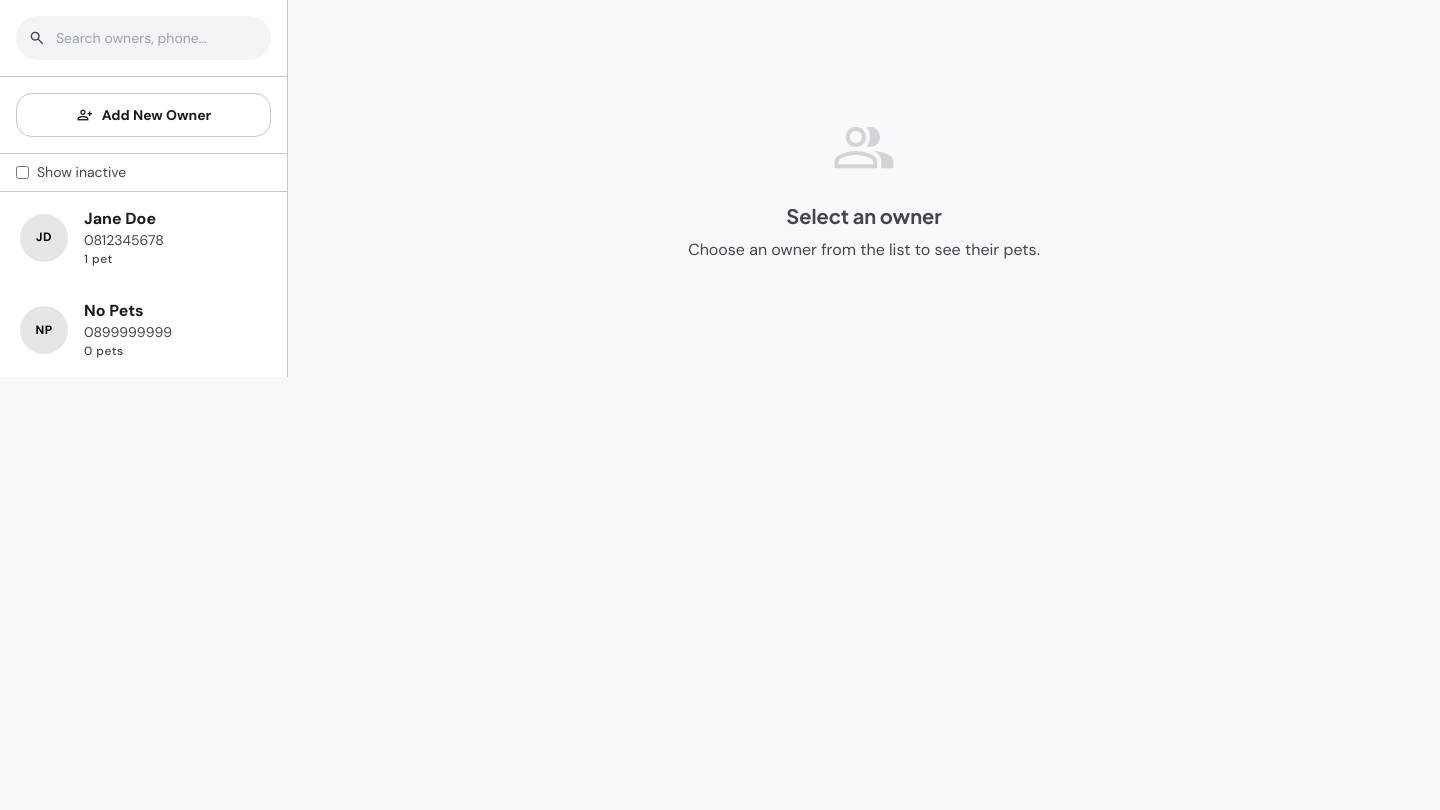
ClinicPets — AddOwnerModal › opens with the literal header "New Owner" (untranslated — pinned as-is)
Check: the text "Jane Doe" is shown, box [84,208,156,230]
Click the button "Add New Owner".
click(144, 115)  # box [16,93,271,137]
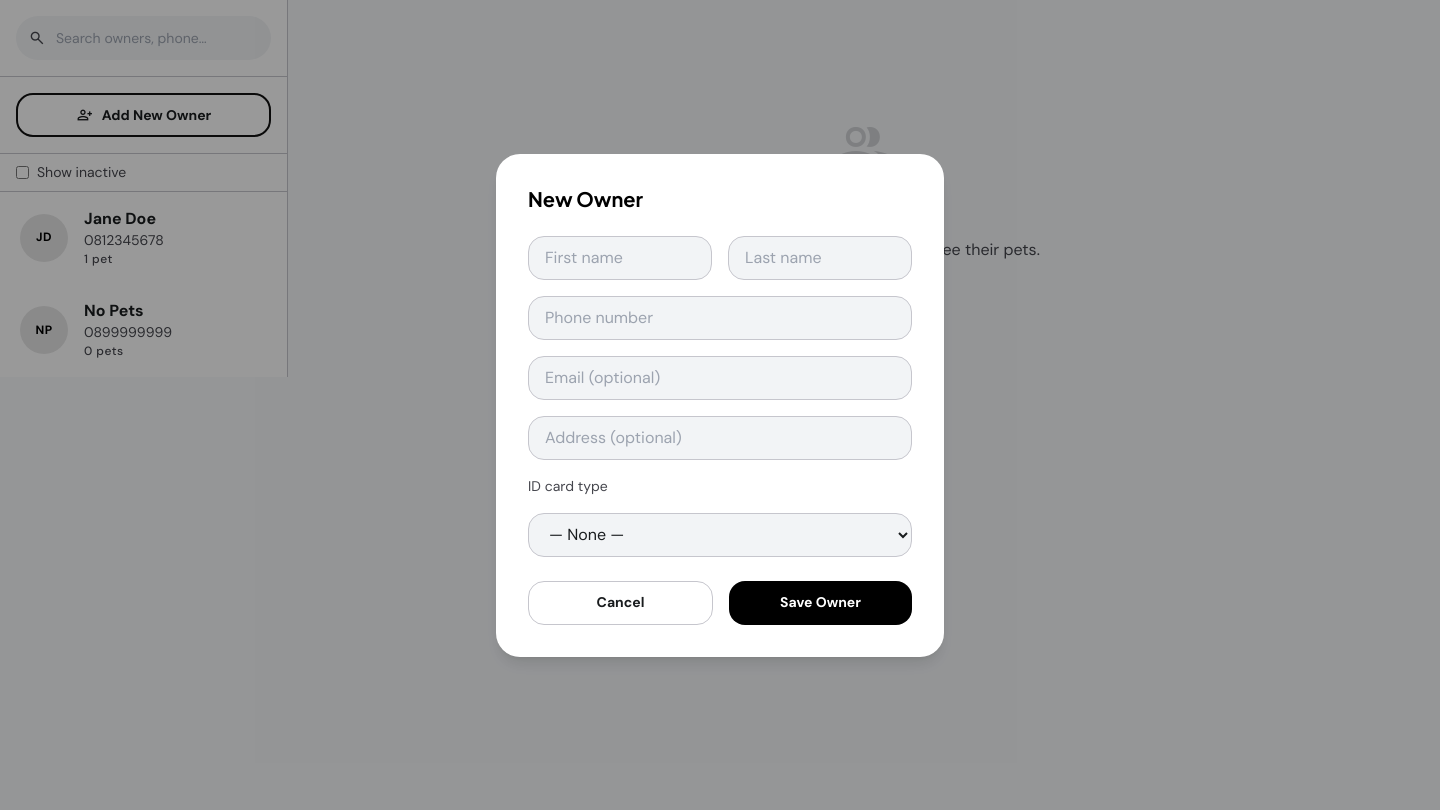
Check: the heading "New Owner" is shown, box [528,186,643,210]
